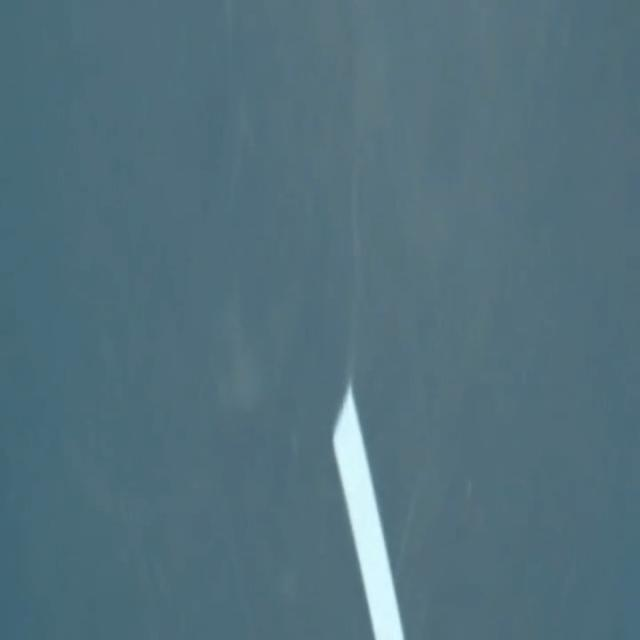center: (333, 384, 404, 639)
